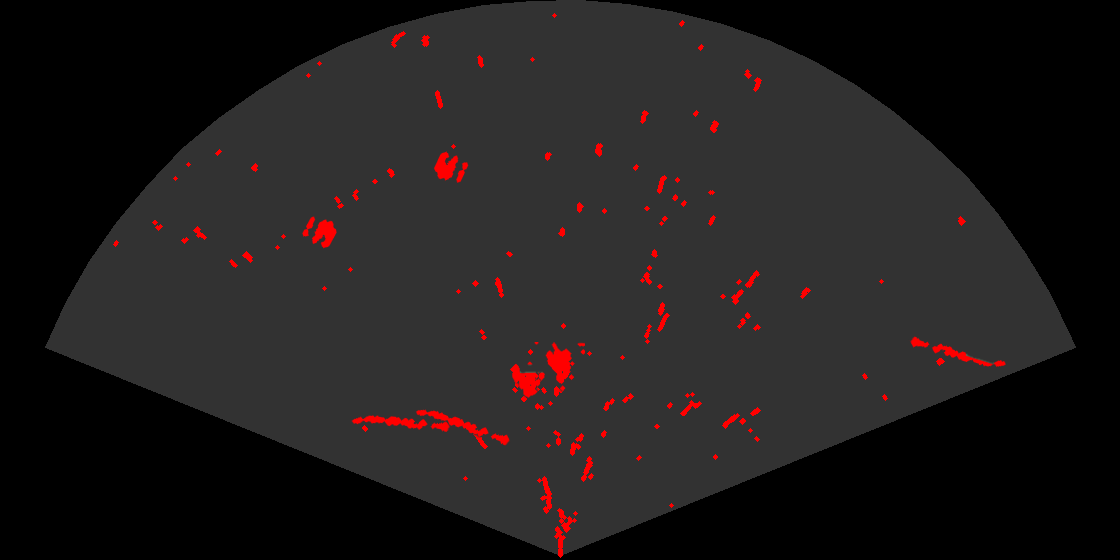ball: (301, 215, 338, 250), (432, 150, 470, 184)
cage: (508, 342, 585, 399)
chain: (415, 408, 511, 447), (908, 335, 1007, 368), (350, 414, 452, 433)
